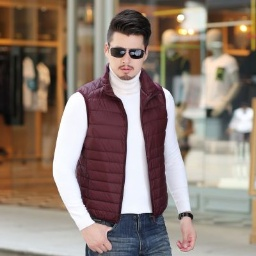face: (105, 9, 152, 78)
